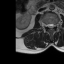CCS_normal: (49, 21, 51, 31)
LFS_stenosis: (54, 22, 56, 28)
LLS_normal: (51, 22, 54, 30)
RFS_normal: (45, 22, 47, 29)
RLS_normal: (47, 22, 49, 29)
